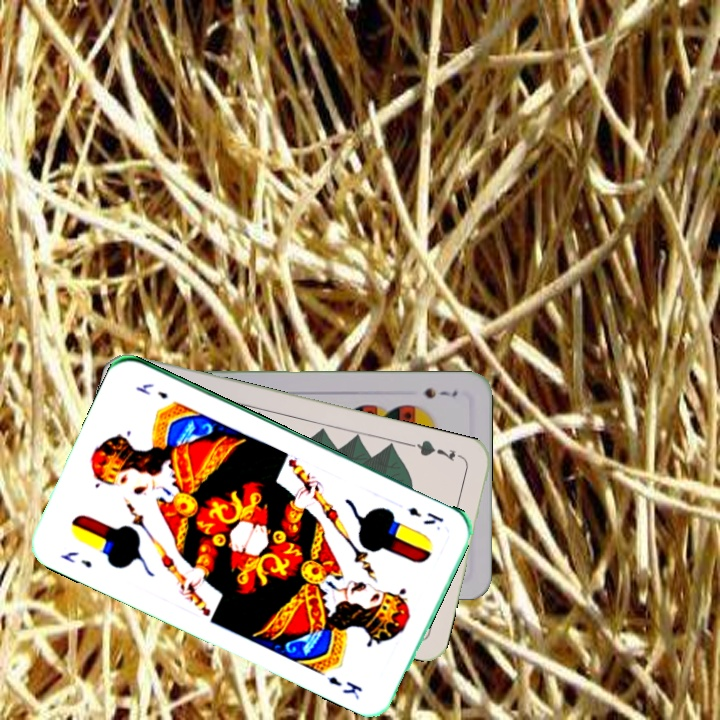EK: (404, 503, 446, 527), (57, 547, 95, 571)
G7: (408, 436, 467, 464)
S7: (420, 384, 460, 401)
